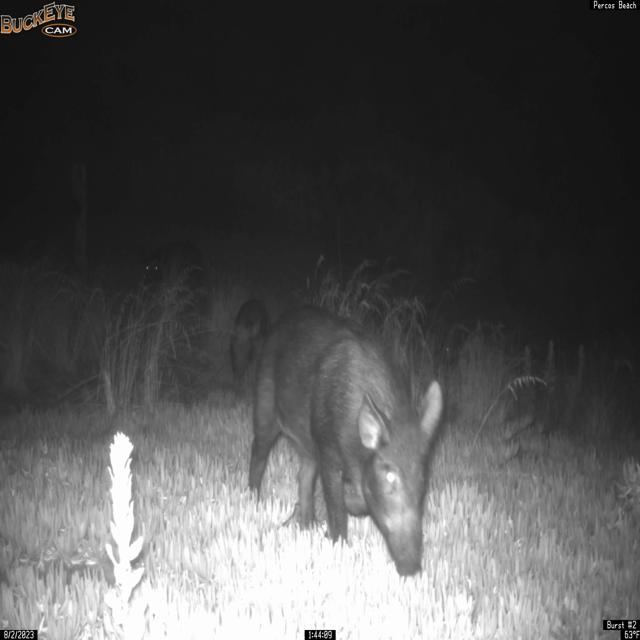pig: (248, 304, 445, 577)
